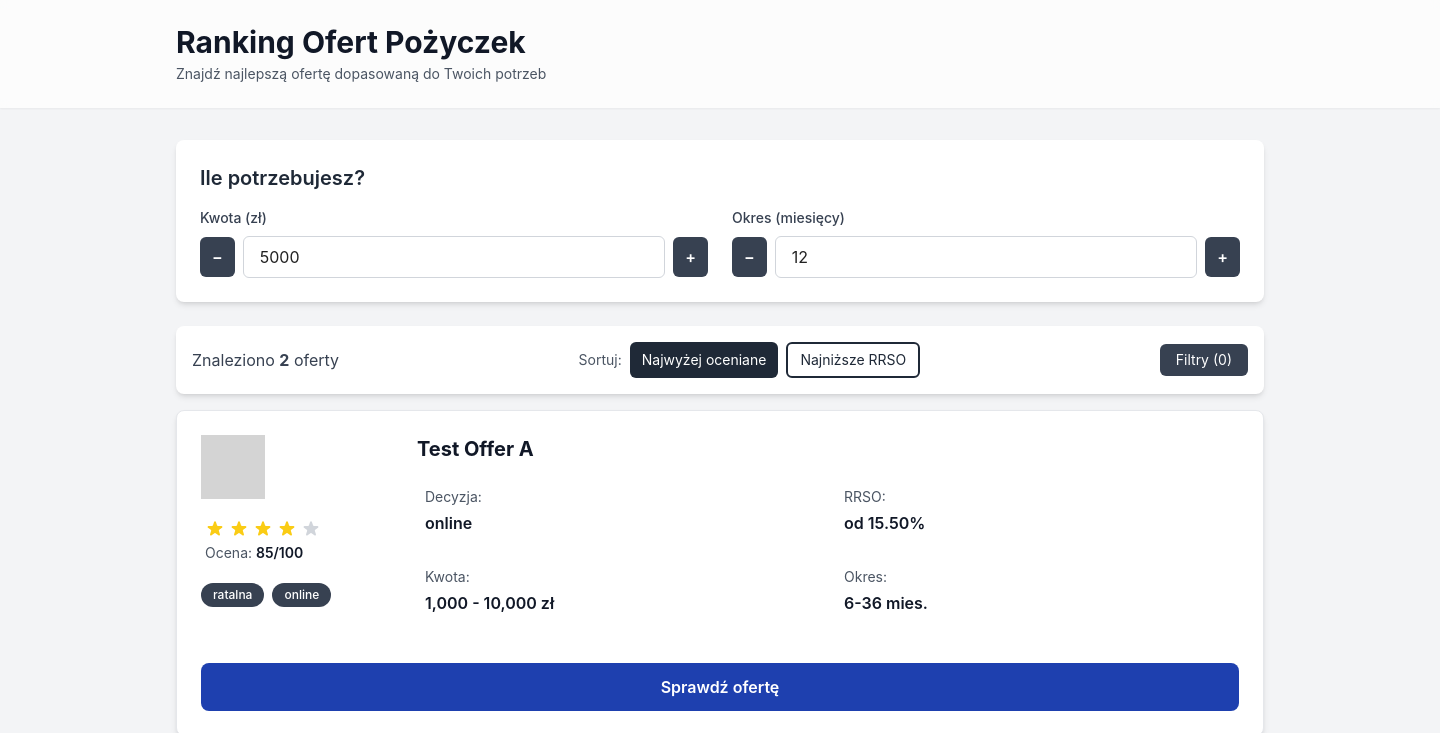
Scenario: App Integration Tests › Tag Filtering Integration › should filter by selected tags
expect the heading "Test Offer A" is shown: met, box [417,437,534,461]
Click the button "Filtry (0)": (1204, 360) [1160,344,1248,376]
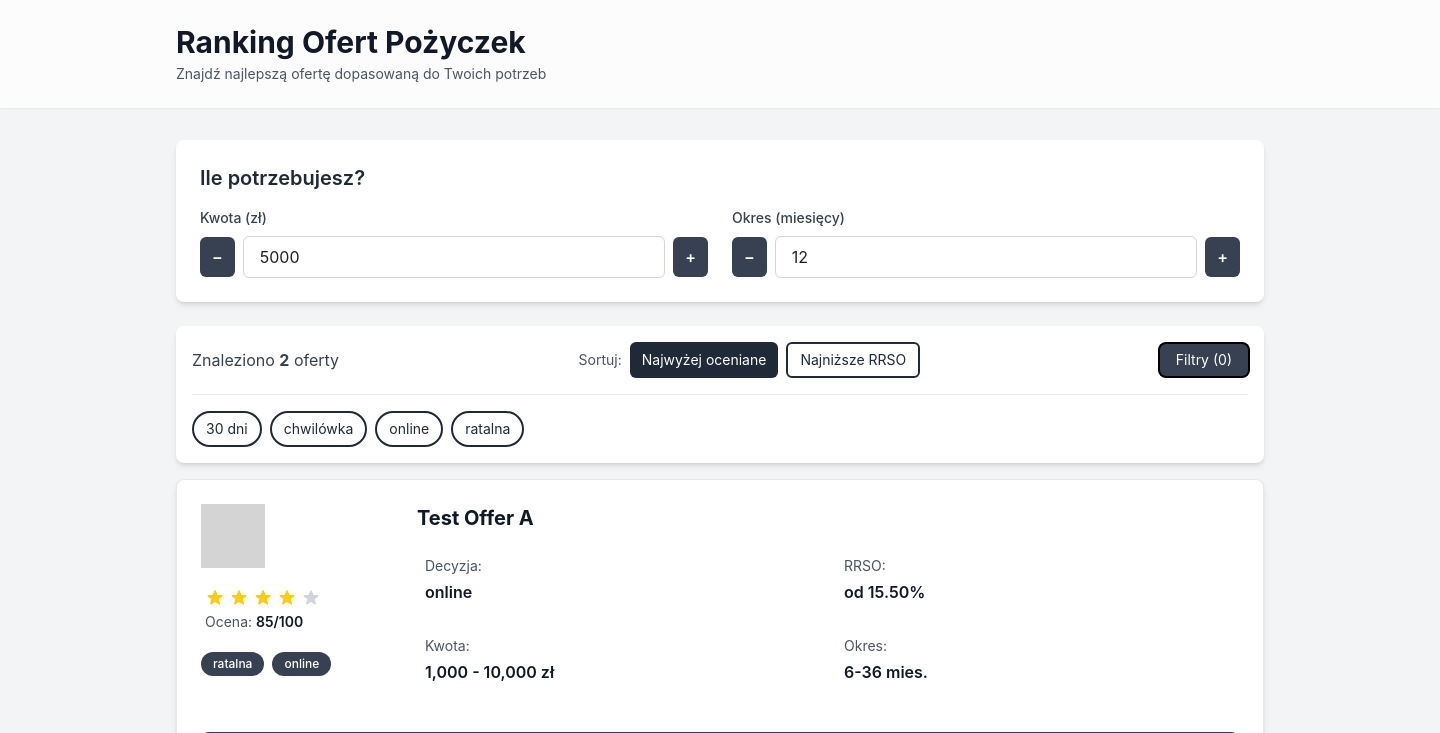
Click the button "chwilówka": (319, 429) [270,411,367,447]
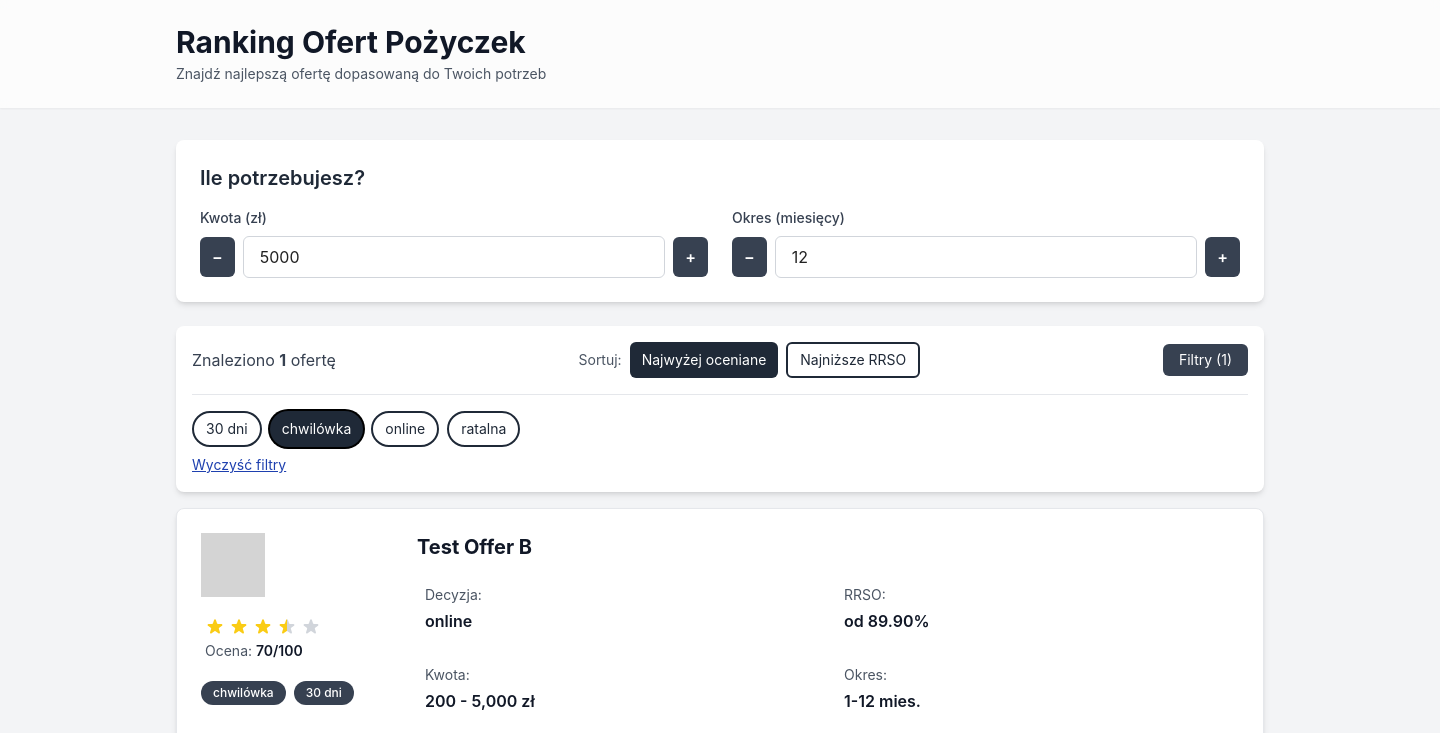
expect the heading "Test Offer B" is shown: met, box [417,535,532,559]
expect the heading "Test Offer A" is gone: met
